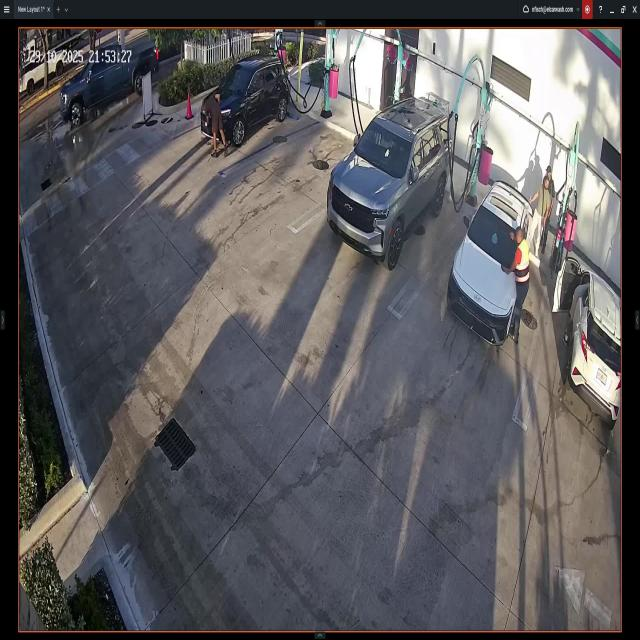Car: (326, 96, 450, 265), (449, 182, 531, 339), (563, 256, 620, 423), (61, 37, 159, 116), (200, 58, 290, 140)
